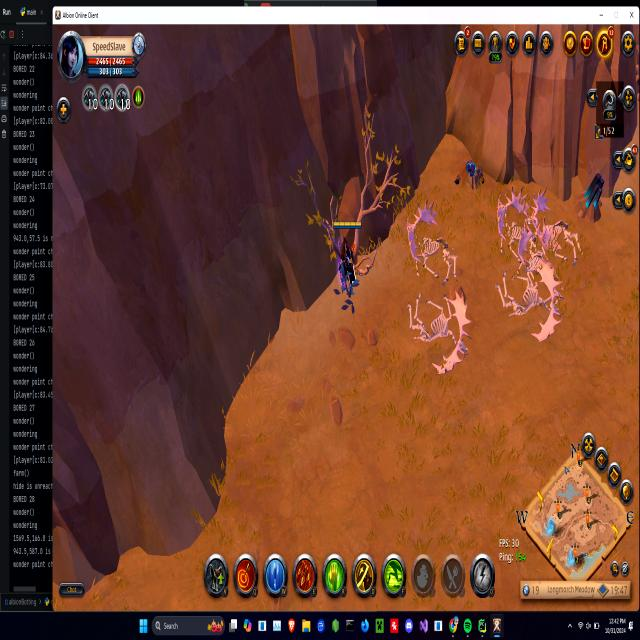player: (578, 173, 608, 224)
red: (333, 218, 362, 290)
